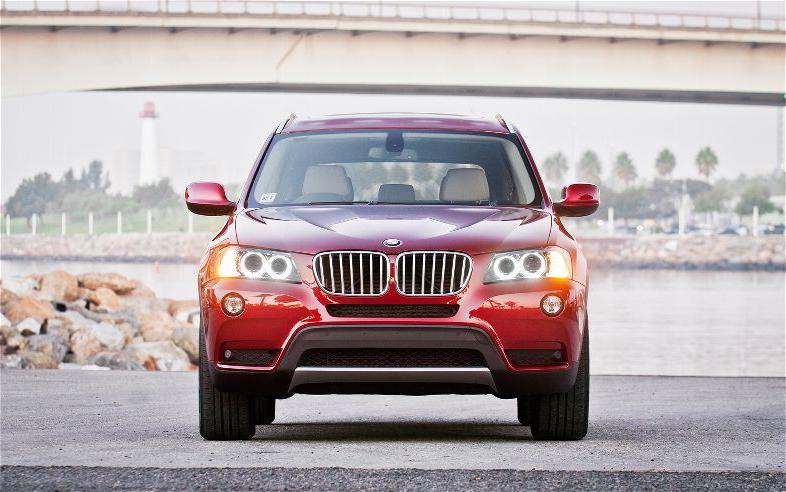Car: (178, 88, 635, 448)
